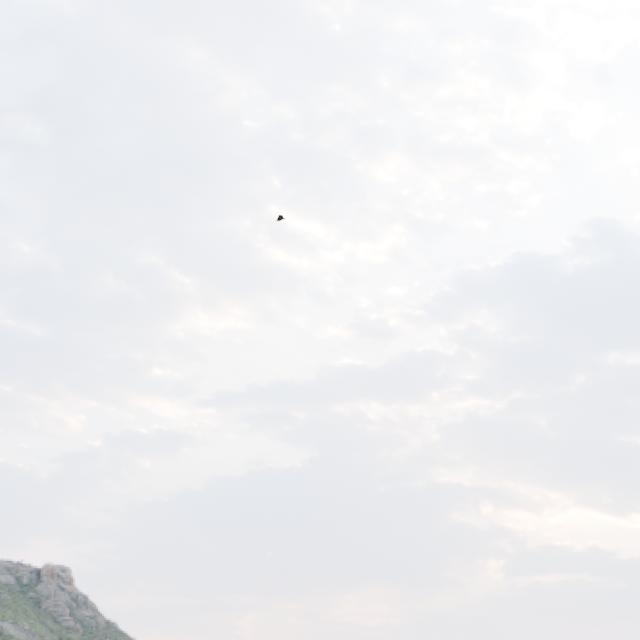Airaplan: (276, 215, 286, 222)
